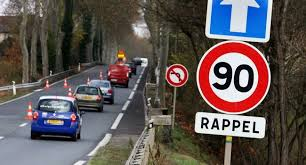Speed_limit_90km: (195, 40, 272, 115)
car: (29, 93, 85, 142), (74, 82, 105, 114)
